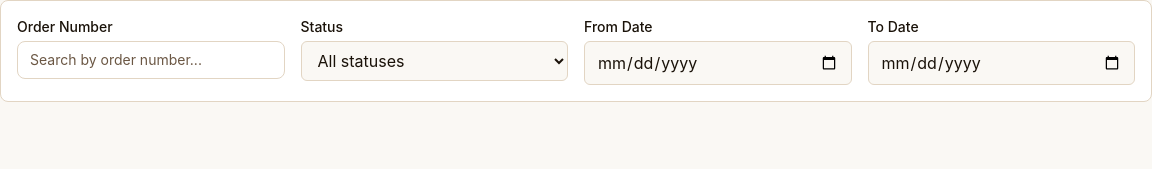
Test case: OrderFilters › clears all filters when clear button is clicked
The image size is (1152, 169).
Type "ORD-001" into the field with placeholder "Search by order number..." at (151, 60), box [17,41,284,79]
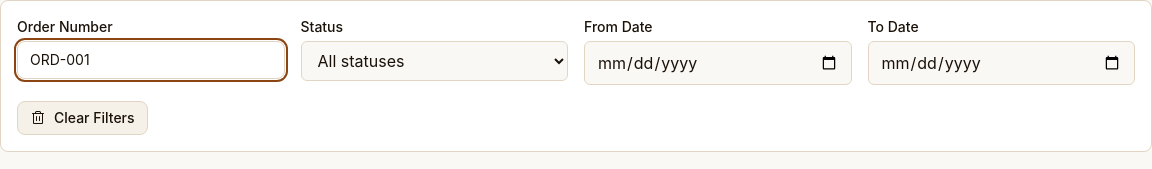
Click the button "Clear Filters" at (82, 118), box [17,101,148,135]
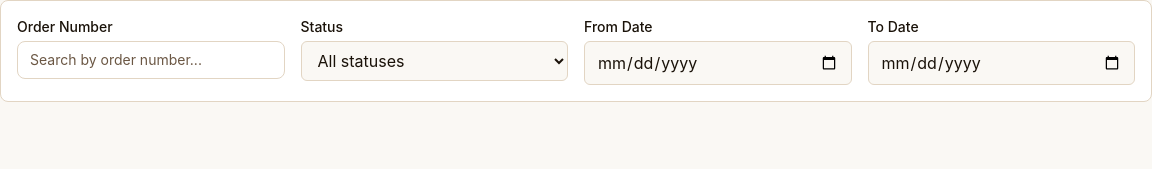
Now the field with placeholder "Search by order number..." is empty, box [17,41,284,79]
